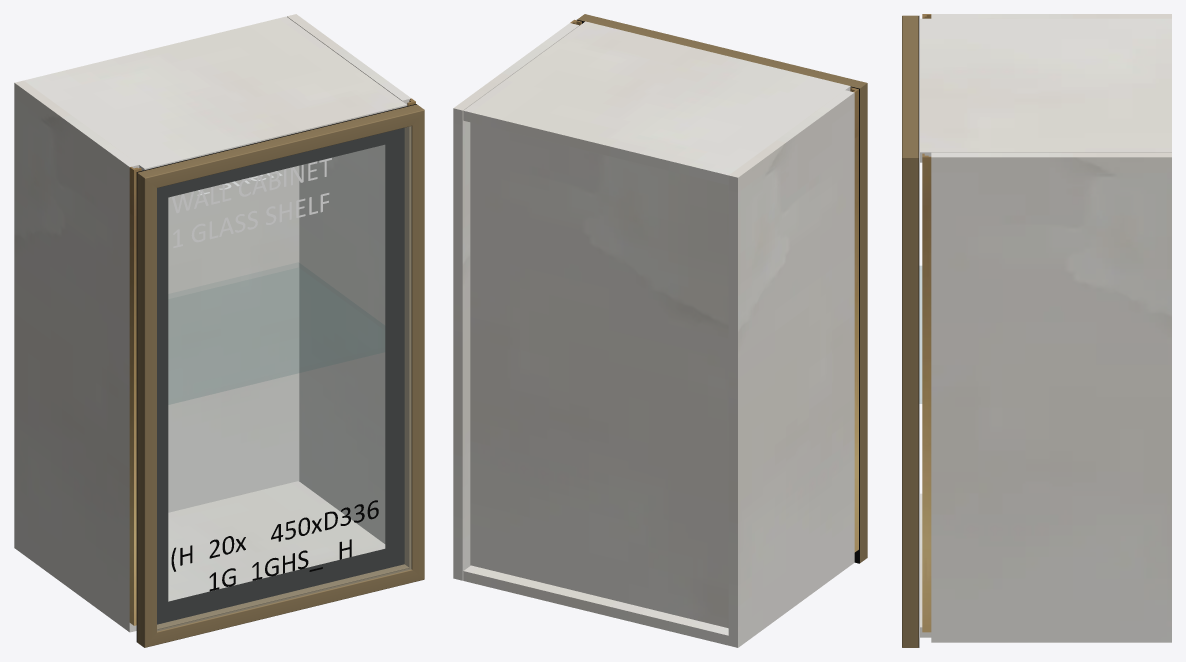
Rendered from WC1GS1GHS_RH (H720 XW450 XD336).glb.
3 views of the same model, side by side, from view 1: azimuth 30°, elevation 25°; view 2: azimuth 150°, elevation 25°; view 3: azimuth 270°, elevation 25° (orthographic). The views are drawn at different scales.
Size of what is drawn, in the model's own units: 0.45 by 0.7185 by 0.366.
8 materials, 2 textured.
